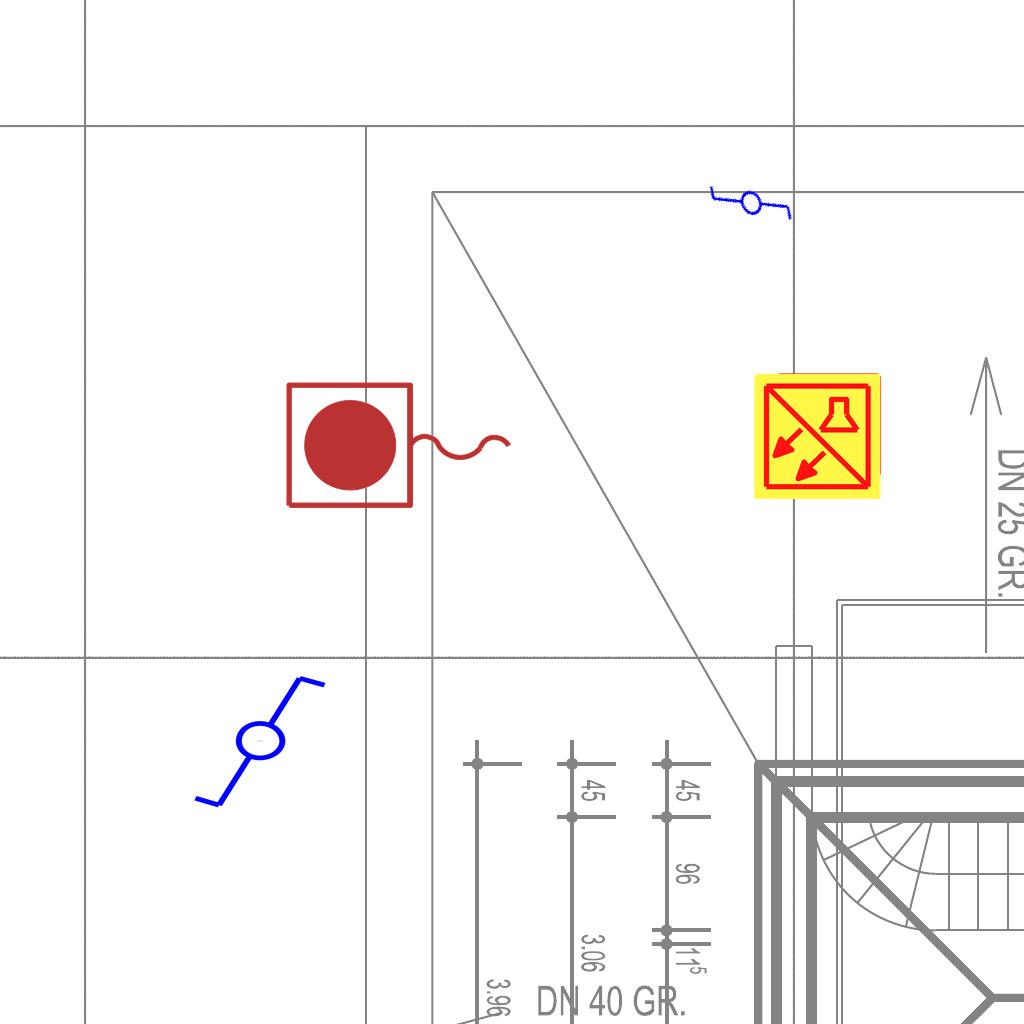OKW_Multisensormelder_(Kombination_optischer_Rauch-Kahlenmonoxid_Waerme-Melder): (751, 370, 883, 502)
Wechselschalter: (190, 671, 347, 815), (702, 156, 802, 258)
Zugtaster: (278, 375, 522, 519)
